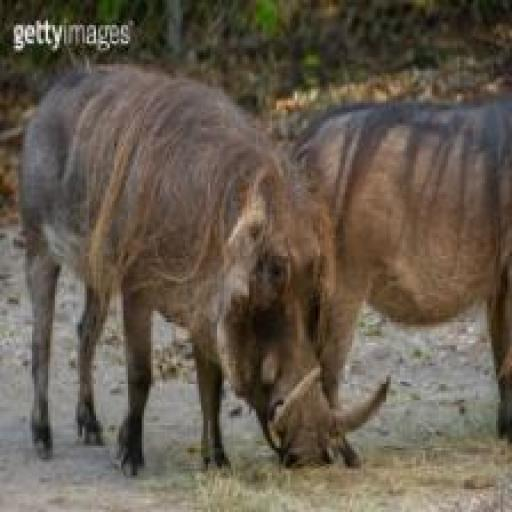Pig: (12, 57, 396, 487)
